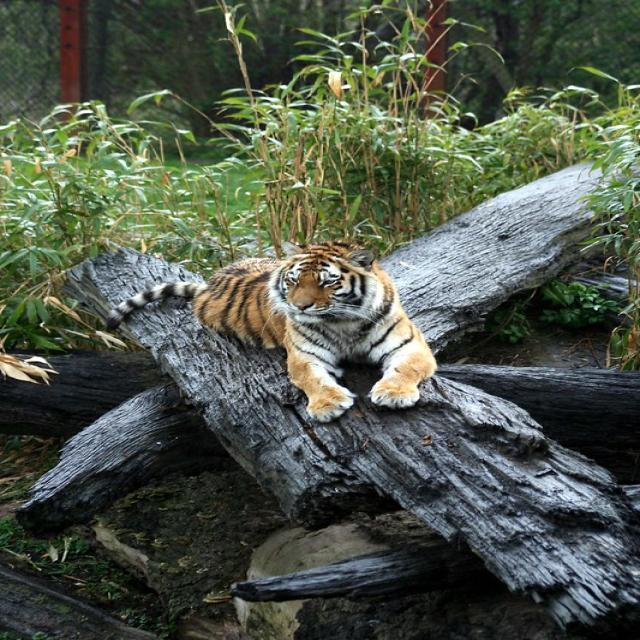Tiger: (105, 240, 437, 422)
